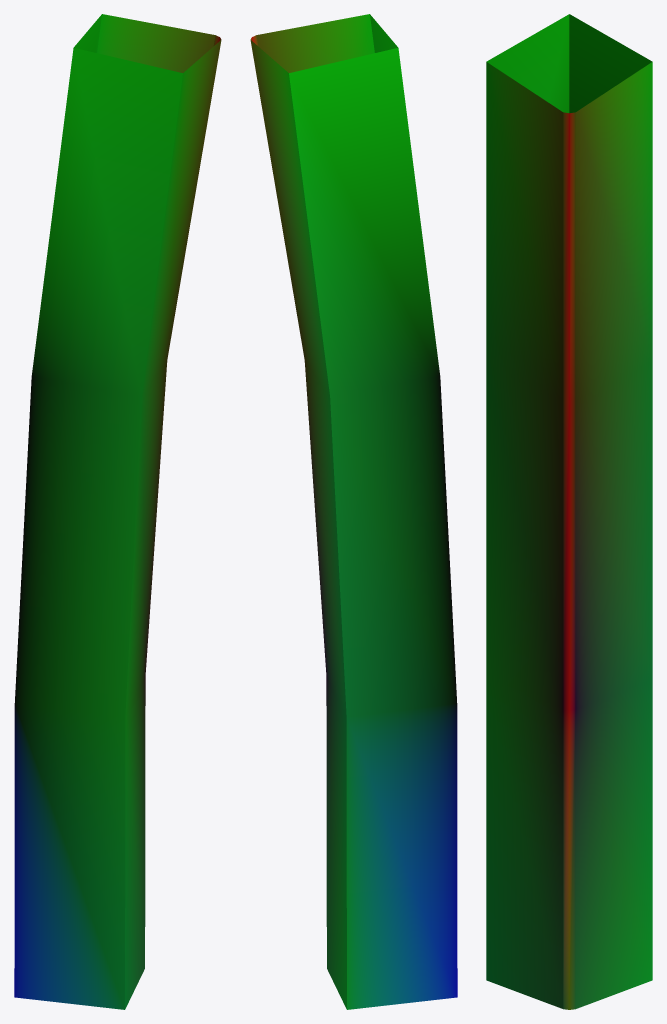
The model's file is ColumnV3.fbx.
The picture shows the model from 3 angles, left to right: view 1: azimuth 30°, elevation 25°; view 2: azimuth 150°, elevation 25°; view 3: azimuth 270°, elevation 25°; orthographic projection. The views are drawn at different scales.
Visible parts, largest first — view 1: ColumnV3; view 2: ColumnV3; view 3: ColumnV3.
Boxes of the visible parts, bbox=[...] form: ColumnV3: bbox=[14, 14, 221, 1009]; ColumnV3: bbox=[250, 14, 457, 1009]; ColumnV3: bbox=[486, 14, 652, 1009].
Size of the model in its own units: 124 by 541 by 84.85.
